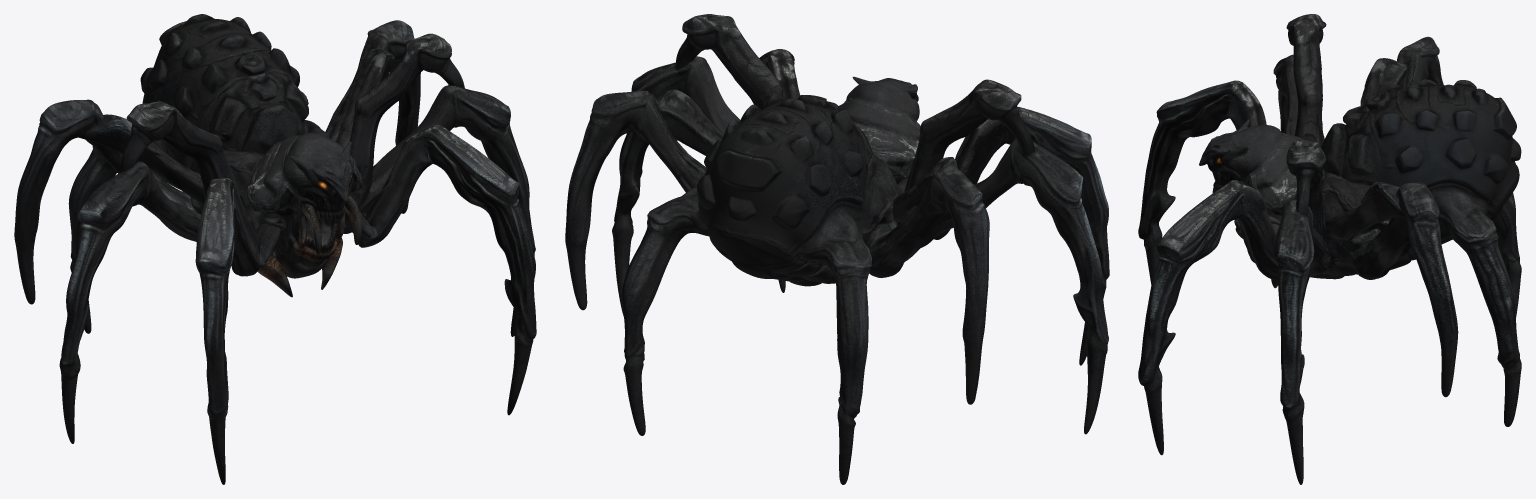
Rendered from Spider_RO.glb.
3 views of the same model, side by side, from view 1: azimuth 30°, elevation 25°; view 2: azimuth 150°, elevation 25°; view 3: azimuth 270°, elevation 25° (orthographic). The views are drawn at different scales.
Visible parts, largest first — view 1: Mesh_0; view 2: Mesh_0; view 3: Mesh_0.
Boxes of the visible parts, box(x1,y1,x2,y2) form: Mesh_0: box(14, 14, 536, 484); Mesh_0: box(565, 14, 1109, 484); Mesh_0: box(1138, 14, 1521, 484).
Bounding box in the file's own units: 1.9 × 1.24 × 1.4.
1 material, 1 textured.
